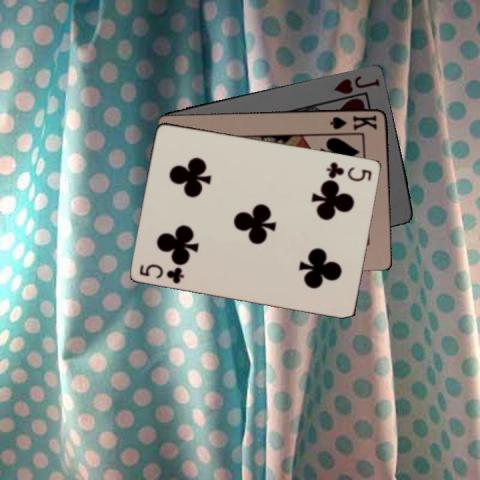5c: (324, 158, 374, 183), (137, 261, 186, 285)
Jh: (331, 73, 382, 95)
Ks: (327, 112, 379, 131)
